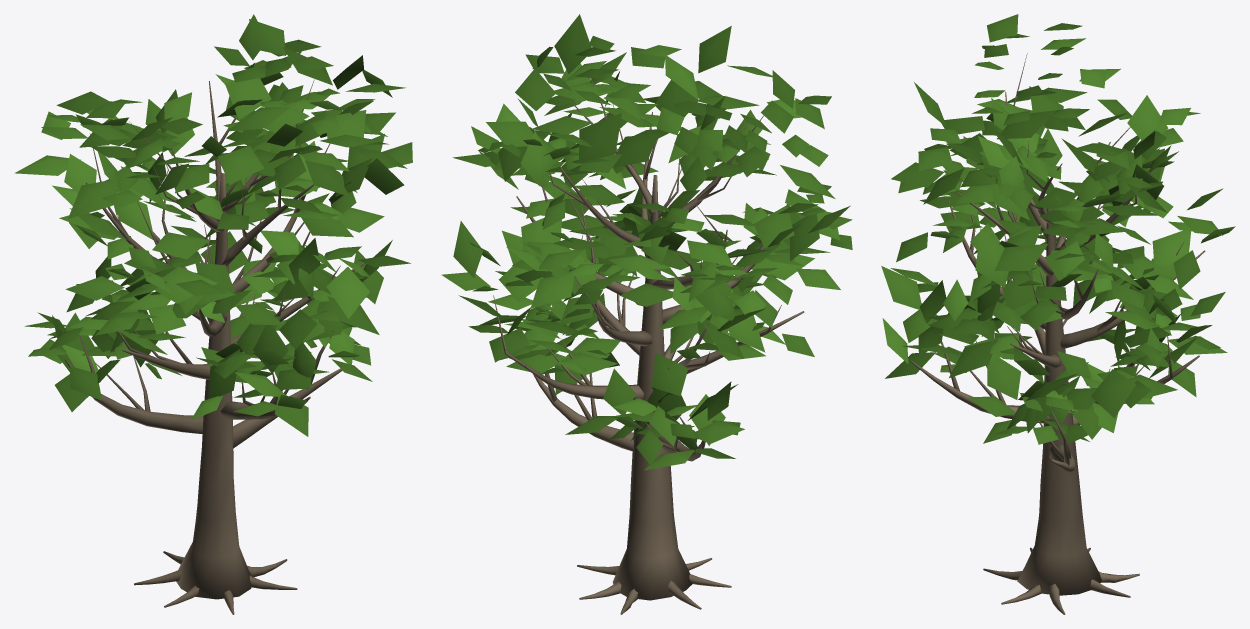
Rendered from broadleaf_mature_lod.glb.
The picture shows the model from 3 angles, left to right: view 1: azimuth 30°, elevation 25°; view 2: azimuth 150°, elevation 25°; view 3: azimuth 270°, elevation 25°; orthographic projection. The views are drawn at different scales.
Parts seen in each view (by area): view 1: broadleaf_mature_lod_leaves.001, broadleaf_mature_lod_bark.001; view 2: broadleaf_mature_lod_leaves.001, broadleaf_mature_lod_bark.001; view 3: broadleaf_mature_lod_leaves.001, broadleaf_mature_lod_bark.001.
Boxes of the visible parts, box(x1,y1,x2,y2) form: broadleaf_mature_lod_leaves.001: box(14, 14, 412, 436); broadleaf_mature_lod_bark.001: box(65, 79, 365, 614); broadleaf_mature_lod_leaves.001: box(441, 14, 852, 470); broadleaf_mature_lod_bark.001: box(493, 64, 804, 614); broadleaf_mature_lod_leaves.001: box(881, 14, 1235, 444); broadleaf_mature_lod_bark.001: box(910, 53, 1205, 614).
Size of the model in its own units: 12.17 by 16.75 by 10.52.
